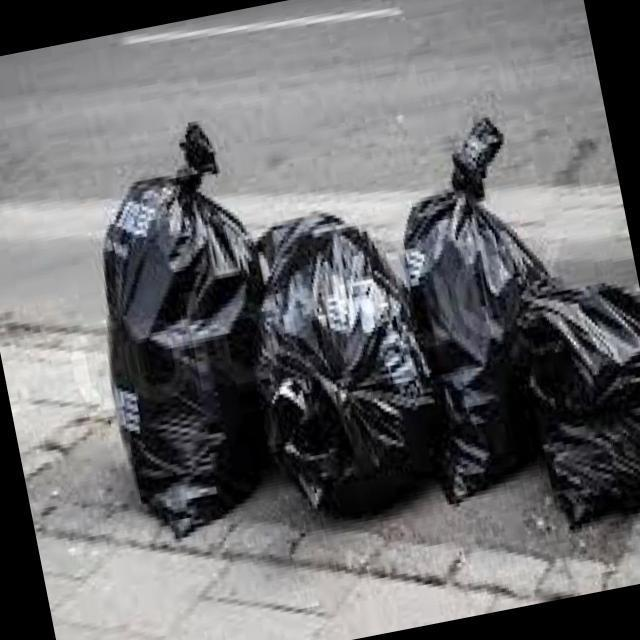garbage: (56, 37, 640, 613)
